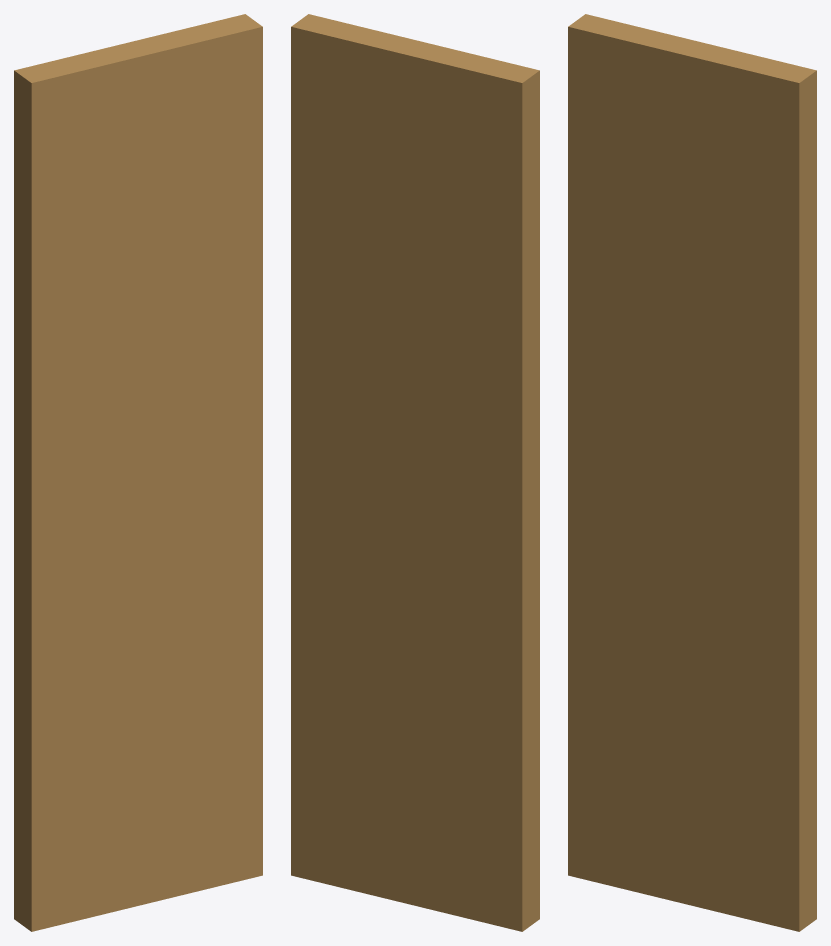
3 views of the same model, side by side, from view 1: azimuth 30°, elevation 25°; view 2: azimuth 150°, elevation 25°; view 3: azimuth 330°, elevation 25° (orthographic).
Parts seen in each view (by area): view 1: FF-W189; view 2: FF-W189; view 3: FF-W189.
Boxes of the visible parts, bbox=[...] form: FF-W189: bbox=[14, 14, 262, 931]; FF-W189: bbox=[291, 14, 539, 931]; FF-W189: bbox=[568, 14, 816, 931].
Bounding box in the file's own units: 0.6901 × 2.42 × 0.09.
